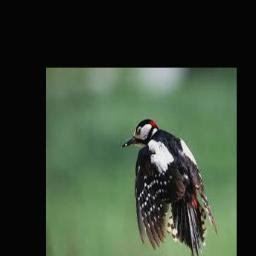Woodpecker: (121, 118, 217, 256)
